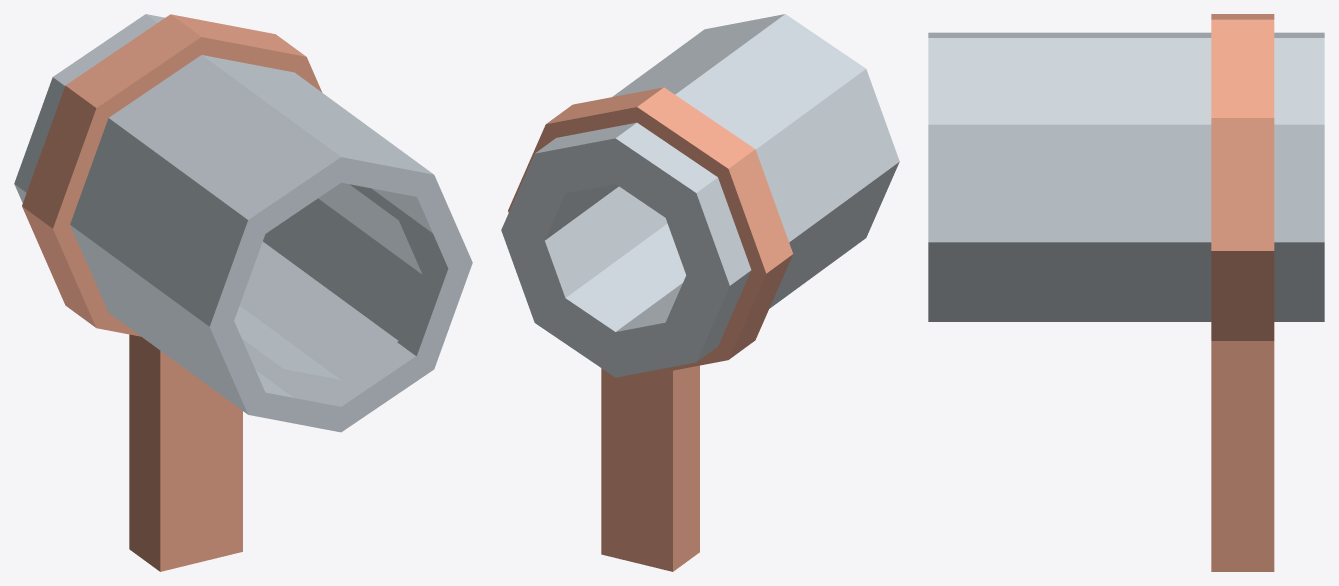
The model's file is pipeStandStraightLinerEnd.glb.
3 renders of one model, left to right at view 1: azimuth 30°, elevation 25°; view 2: azimuth 150°, elevation 25°; view 3: azimuth 270°, elevation 25°, orthographic. The views are drawn at different scales.
Parts seen in each view (by area): view 1: pipeStandStraightLinerEnd; view 2: pipeStandStraightLinerEnd; view 3: pipeStandStraightLinerEnd.
Boxes of the visible parts, x1=… form: pipeStandStraightLinerEnd: x1=14, y1=14, x2=472, y2=571; pipeStandStraightLinerEnd: x1=501, y1=14, x2=899, y2=571; pipeStandStraightLinerEnd: x1=928, y1=14, x2=1324, y2=571.
Bounding box in the file's own units: 5.53 × 9.33 × 6.3.
